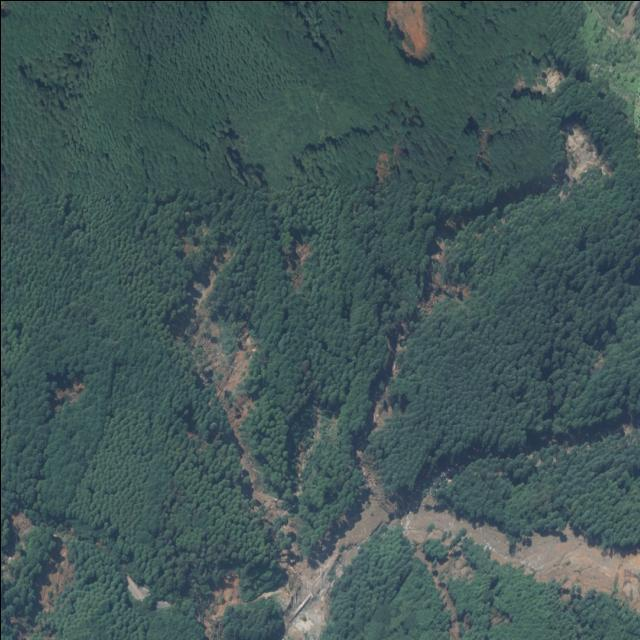landslide: (277, 494, 640, 640), (192, 327, 254, 433), (566, 124, 612, 184), (386, 0, 427, 57), (531, 65, 565, 92), (515, 79, 524, 88)
